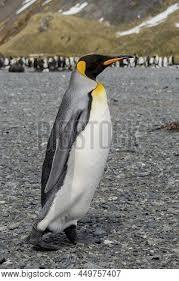king: (28, 39, 152, 245)
